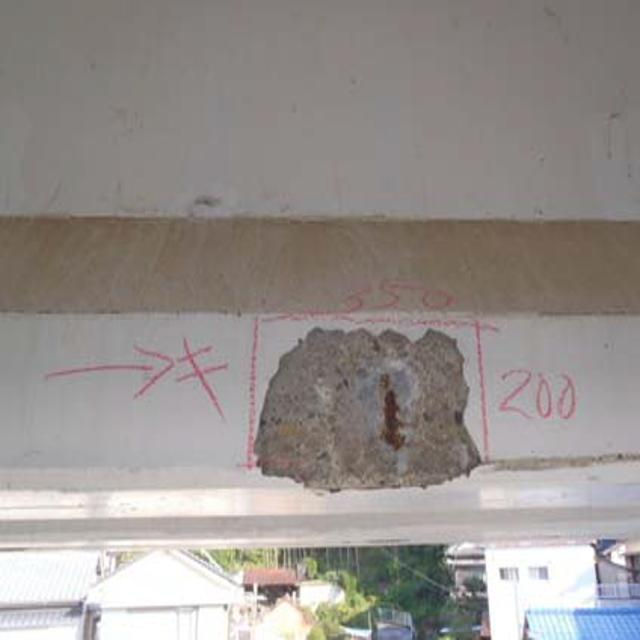spalling: (233, 320, 497, 506)
